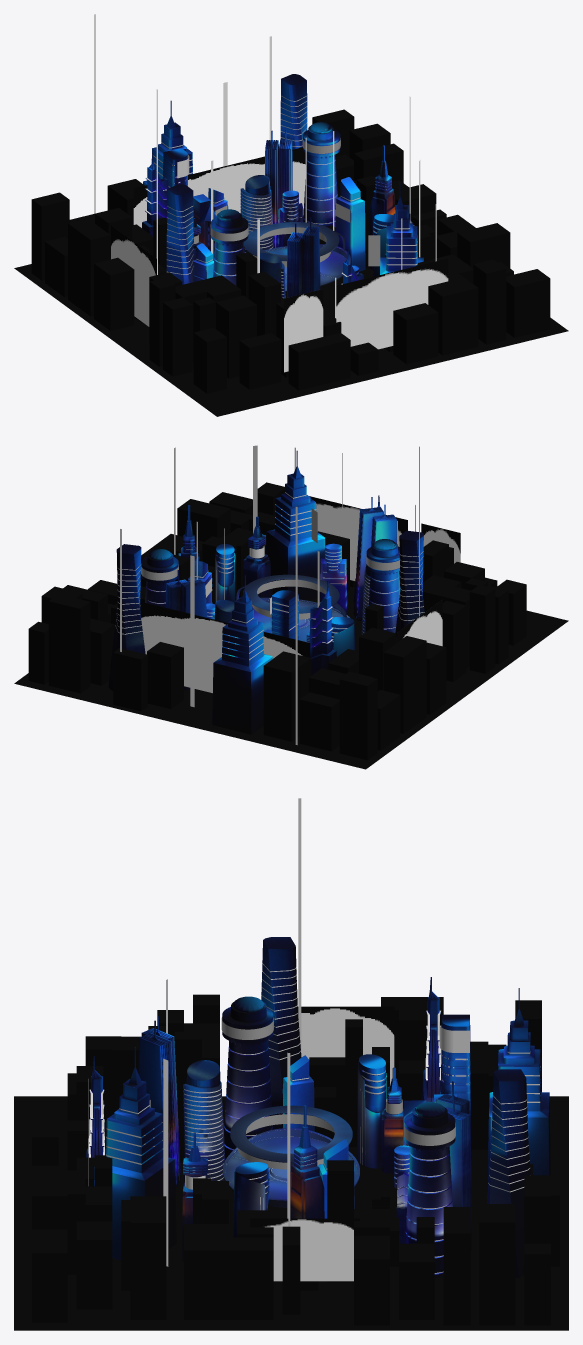
Rendered from City.fbx.
3 renders of one model, top to bottom at view 1: azimuth 30°, elevation 25°; view 2: azimuth 150°, elevation 25°; view 3: azimuth 270°, elevation 25°, orthographic. The views are drawn at different scales.
Visible parts, largest first — view 1: Ground, Fog2, Building_A (×2), Fog, Building_H (×2), Building_B1, Building_C1, MainHall, Fog3, Fog1, Building_G, Building_B (+11 smaller); view 2: Ground, Building_H (×2), Fog, Building_A (×2), Building_B, Building_B1, Lights, Building_C1, Fog2, MainHall, Building_M, Building_C (+10 smaller); view 3: Ground, Building_H (×2), Building_A (×2), Building_B, MainHall, Building_B1, Fog4, Fog1, Building_E1, Building_C1, Building_O, Lights1 (+12 smaller).
Part boxes in pixels (x1,y1,x2,y2): Ground: (14,109,568,416); Fog2: (336,258,448,349); Building_A (×2): (211,122,340,285); Fog: (133,147,306,227); Building_H (×2): (143,100,423,274); Building_B1: (166,184,193,284); Building_C1: (287,217,320,297); MainHall: (243,222,350,291); Fog3: (284,289,323,372); Fog1: (111,225,156,326); Building_G: (335,177,365,271); Building_B: (280,74,307,149); Ground: (14,482,568,769); Building_H (×2): (212,450,325,734); Fog: (140,601,310,693); Building_A (×2): (141,539,400,632); Building_B: (108,544,145,691); Building_B1: (395,530,424,636); Lights: (120,506,319,745); Building_C1: (353,497,396,619); Fog2: (309,496,407,580); MainHall: (236,574,349,642); Building_M: (309,581,336,675); Building_C: (166,570,206,690); Ground: (14,994,568,1330); Building_H (×2): (94,988,550,1260); Building_A (×2): (222,996,455,1277); Building_B: (487,1069,530,1278); MainHall: (223,1105,359,1207); Building_B1: (261,937,301,1129); Fog4: (250,1218,359,1281); Fog1: (298,1006,394,1085); Building_E1: (183,1060,225,1180); Building_C1: (138,1016,180,1187); Building_O: (357,1054,386,1168); Lights1: (88,798,301,1266).
Size of the model in its own units: 3289 by 2196 by 3289.
17 materials, 5 textured.
